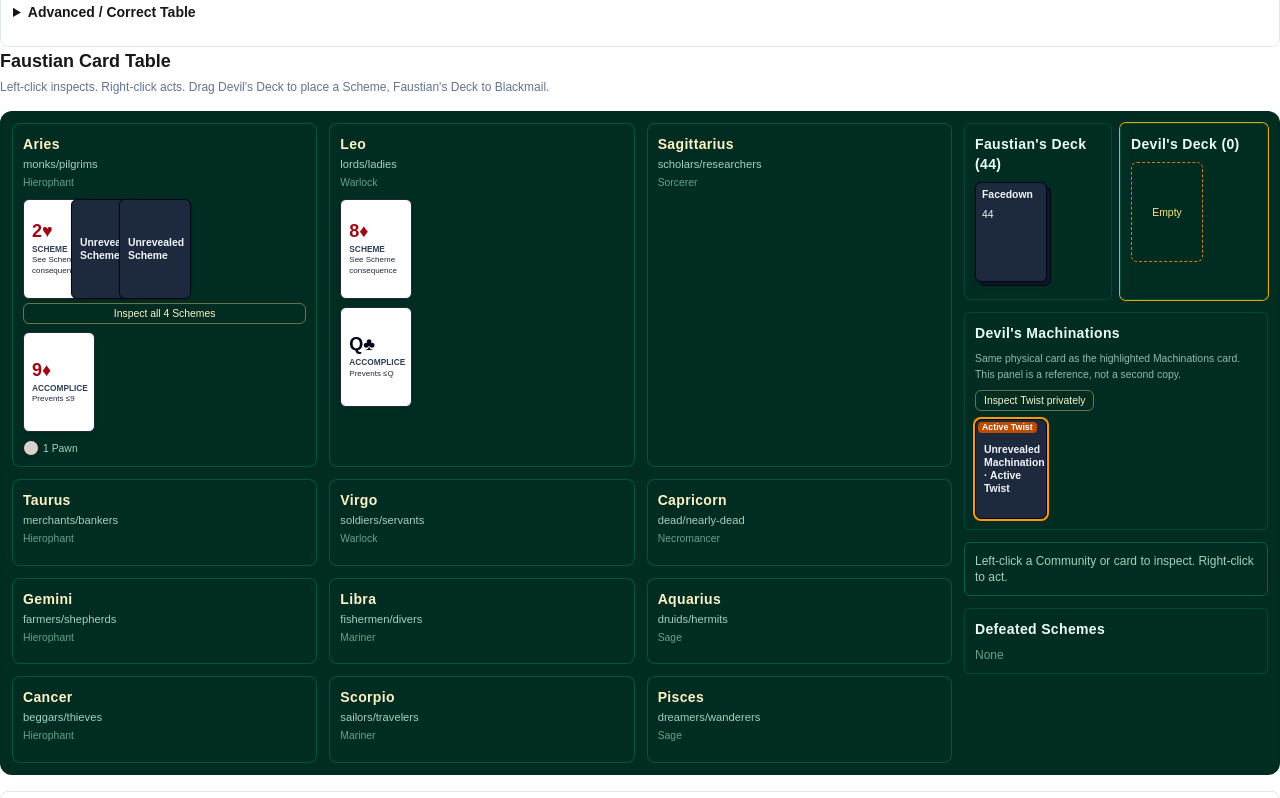
Test case: Faustian surface presentation › reveals a Twist privately inside the inspector rail without flipping the table card
The image size is (1280, 798).
Later steps or results of the test are not shown.
(page scrolled)
Click the button "Inspect Twist privately". click: point(1035, 400)
box: [975,390,1094,411]
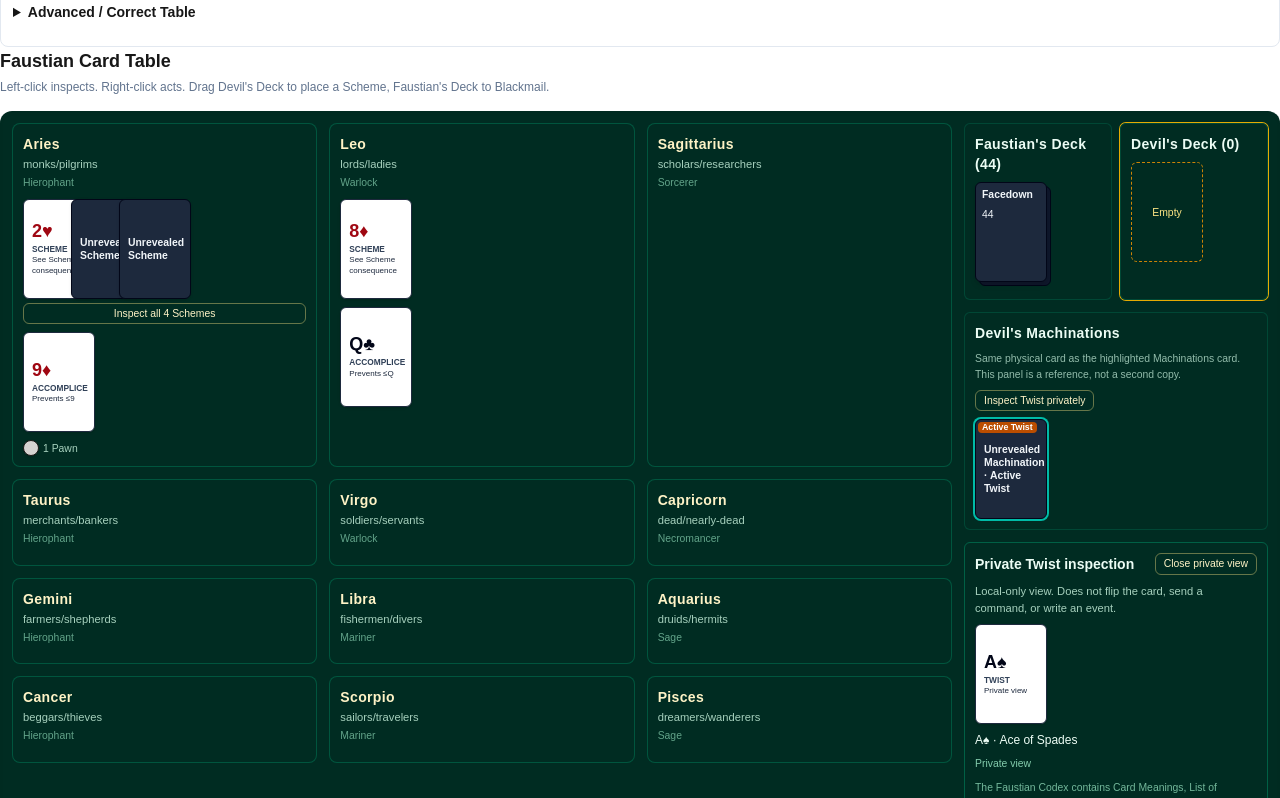
Expected: the element named "Faustian inspector" shows "Private Twist inspection", [975,556,1134,572]
Expected: the element named "Faustian inspector" shows "Local-only view", [975,585,1203,614]
